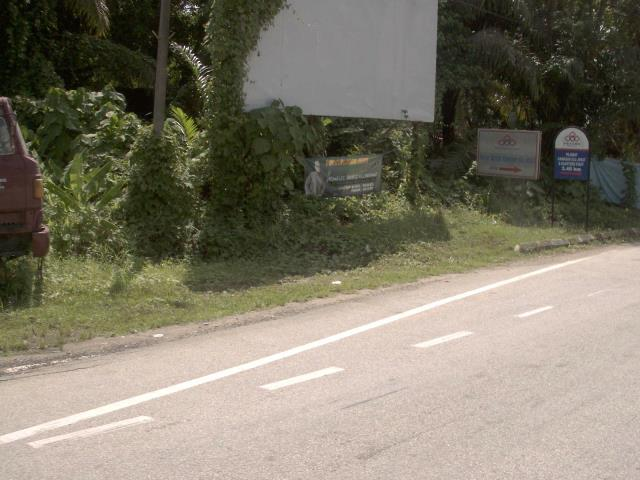ads_sign: (290, 140, 393, 208), (467, 116, 547, 186), (548, 122, 596, 186)
